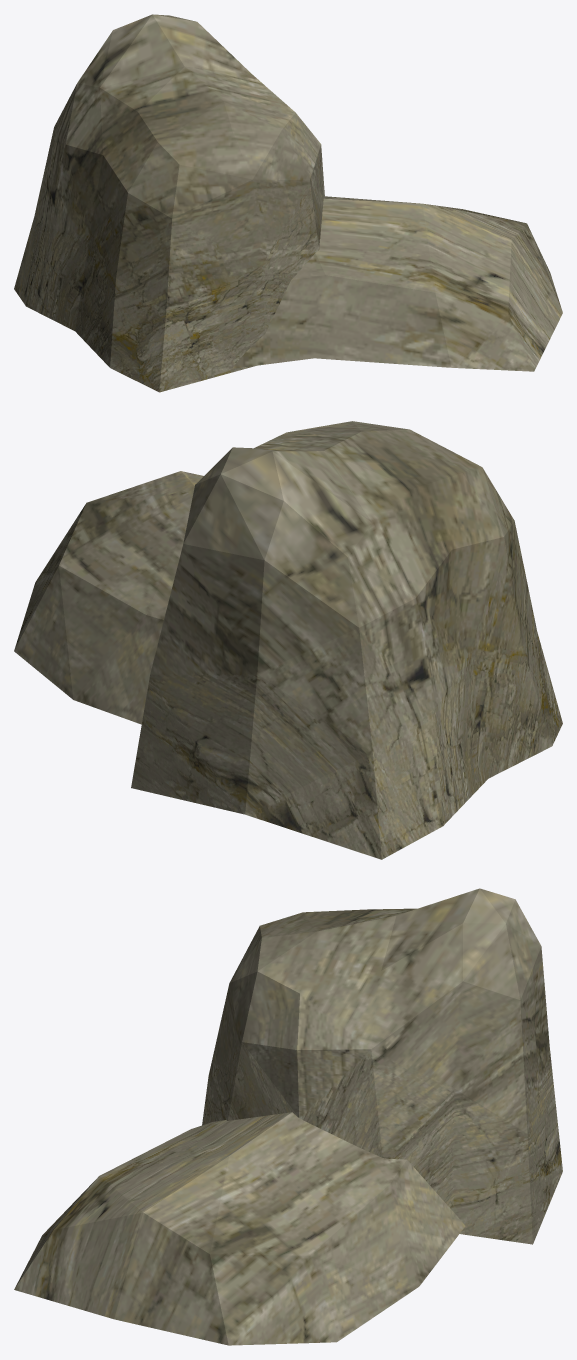
File: mine_stonemine_granite.glb
The picture shows the model from 3 angles, top to bottom: view 1: azimuth 30°, elevation 25°; view 2: azimuth 150°, elevation 25°; view 3: azimuth 270°, elevation 25°; orthographic projection. The views are drawn at different scales.
Visible parts, largest first — view 1: mine_stonemine_granite_part0; view 2: mine_stonemine_granite_part0; view 3: mine_stonemine_granite_part0.
Boxes of the visible parts, x1,y1,x2,y2 form: mine_stonemine_granite_part0: [14, 14, 562, 392]; mine_stonemine_granite_part0: [14, 421, 562, 859]; mine_stonemine_granite_part0: [14, 888, 562, 1345].
Size of the model in its own units: 1.65 by 1.01 by 1.61.
Materials: 1 (1 with a texture image).
